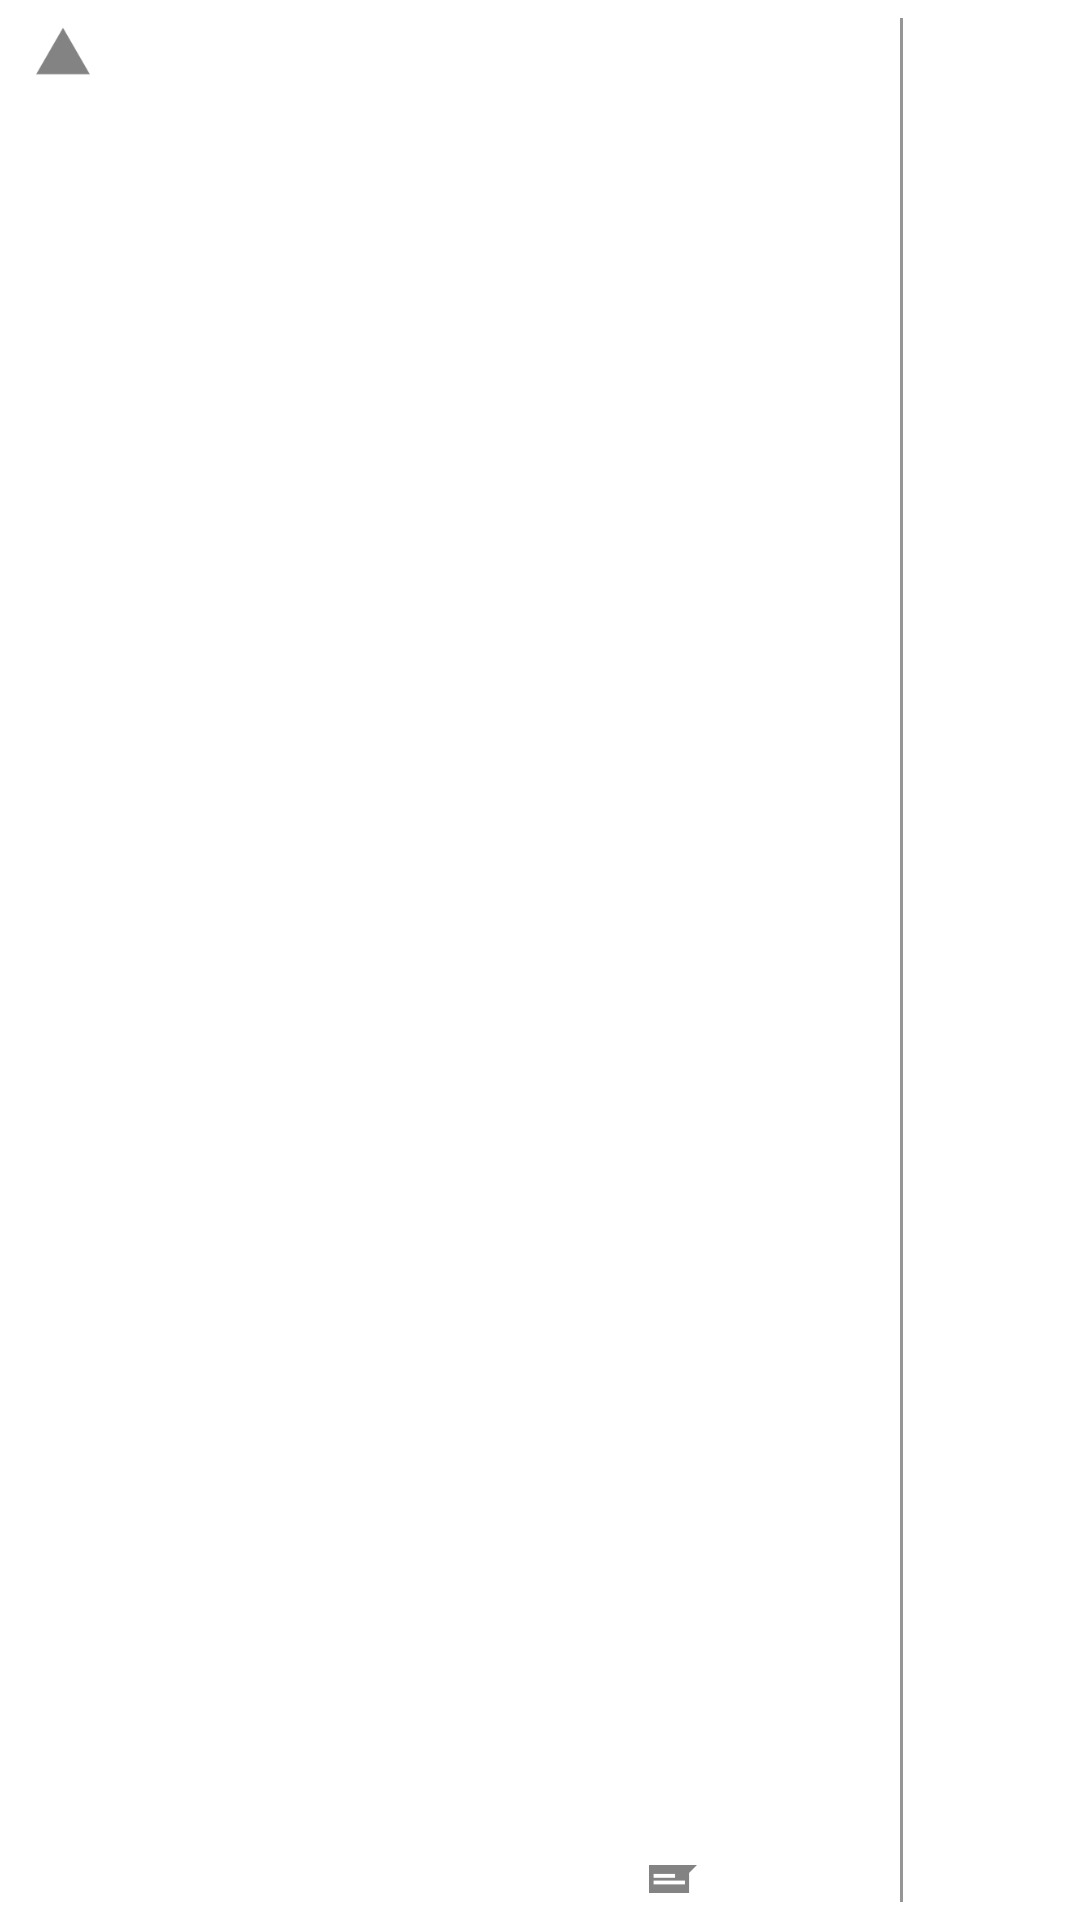

Named icons in this screenshot (1080w x 1920h) and their bounding boxes, (x1, y1, x2, y2):
comments: (649, 1865, 697, 1893)
vote: (36, 28, 90, 75)
